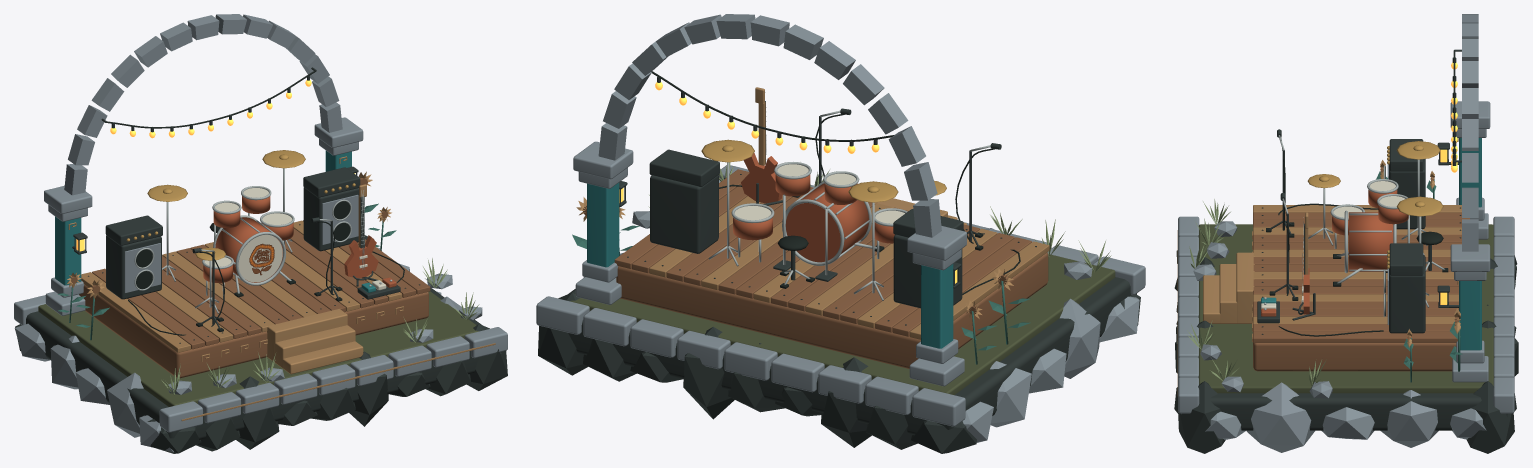
File: seeds-v5.glb
3 renders of one model, left to right at view 1: azimuth 30°, elevation 25°; view 2: azimuth 150°, elevation 25°; view 3: azimuth 270°, elevation 25°, orthographic. The views are drawn at different scales.
Visible parts, largest first — view 1: seeds_Concrete, seeds_Graphite enamel, seeds_Oiled timber, seeds_Timber end grain, seeds_Dark earth, seeds_Oxide paint, seeds_Brushed aluminum, seeds_Warm chalk, seeds_Rubber and cables, seeds_Petrol enamel, seeds_Sunlit foliage, seeds_Olive foliage (+4 smaller); view 2: seeds_Concrete, seeds_Graphite enamel, seeds_Oiled timber, seeds_Dark earth, seeds_Timber end grain, seeds_Oxide paint, seeds_Petrol enamel, seeds_Brushed aluminum, seeds_Rubber and cables, seeds_Warm chalk, seeds_Olive foliage, cymbal_1_Warm brass (+3 smaller); view 3: seeds_Concrete, seeds_Oiled timber, seeds_Graphite enamel, seeds_Dark earth, seeds_Timber end grain, seeds_Oxide paint, seeds_Brushed aluminum, seeds_Petrol enamel, seeds_Rubber and cables, seeds_Sunlit foliage, seeds_Warm chalk, cymbal_1_Warm brass (+4 smaller).
Boxes of the visible parts, bbox=[...] form: seeds_Concrete: bbox=[14, 14, 507, 452]; seeds_Graphite enamel: bbox=[15, 67, 507, 453]; seeds_Oiled timber: bbox=[71, 178, 430, 378]; seeds_Timber end grain: bbox=[67, 156, 495, 420]; seeds_Dark earth: bbox=[38, 291, 478, 406]; seeds_Oxide paint: bbox=[203, 196, 396, 287]; seeds_Brushed aluminum: bbox=[134, 168, 392, 313]; seeds_Warm chalk: bbox=[204, 188, 386, 290]; seeds_Rubber and cables: bbox=[106, 70, 404, 335]; seeds_Petrol enamel: bbox=[55, 150, 375, 292]; seeds_Sunlit foliage: bbox=[161, 258, 479, 394]; seeds_Olive foliage: bbox=[58, 203, 396, 340]; seeds_Concrete: bbox=[536, 14, 1145, 442]; seeds_Graphite enamel: bbox=[538, 77, 1140, 453]; seeds_Oiled timber: bbox=[583, 169, 1048, 368]; seeds_Dark earth: bbox=[570, 254, 1115, 394]; seeds_Timber end grain: bbox=[576, 87, 1049, 339]; seeds_Oxide paint: bbox=[733, 153, 894, 262]; seeds_Petrol enamel: bbox=[587, 182, 953, 348]; seeds_Brushed aluminum: bbox=[708, 92, 990, 300]; seeds_Rubber and cables: bbox=[651, 71, 1020, 294]; seeds_Warm chalk: bbox=[734, 164, 904, 223]; seeds_Olive foliage: bbox=[572, 225, 1030, 364]; cymbal_1_Warm brass: bbox=[701, 139, 754, 162]; seeds_Concrete: bbox=[1178, 14, 1514, 452]; seeds_Oiled timber: bbox=[1253, 167, 1469, 371]; seeds_Graphite enamel: bbox=[1174, 49, 1518, 453]; seeds_Dark earth: bbox=[1198, 224, 1493, 393]; seeds_Timber end grain: bbox=[1177, 138, 1461, 396]; seeds_Oxide paint: bbox=[1261, 190, 1408, 316]; seeds_Brushed aluminum: bbox=[1264, 135, 1444, 317]; seeds_Petrol enamel: bbox=[1261, 138, 1481, 350]; seeds_Rubber and cables: bbox=[1266, 50, 1455, 336]; seeds_Sunlit foliage: bbox=[1187, 199, 1326, 386]; seeds_Warm chalk: bbox=[1261, 181, 1405, 309]; cymbal_1_Warm brass: bbox=[1396, 196, 1443, 216].
Size of the model in its own units: 5.92 by 5.1 by 4.52.
15 materials, 1 textured.
